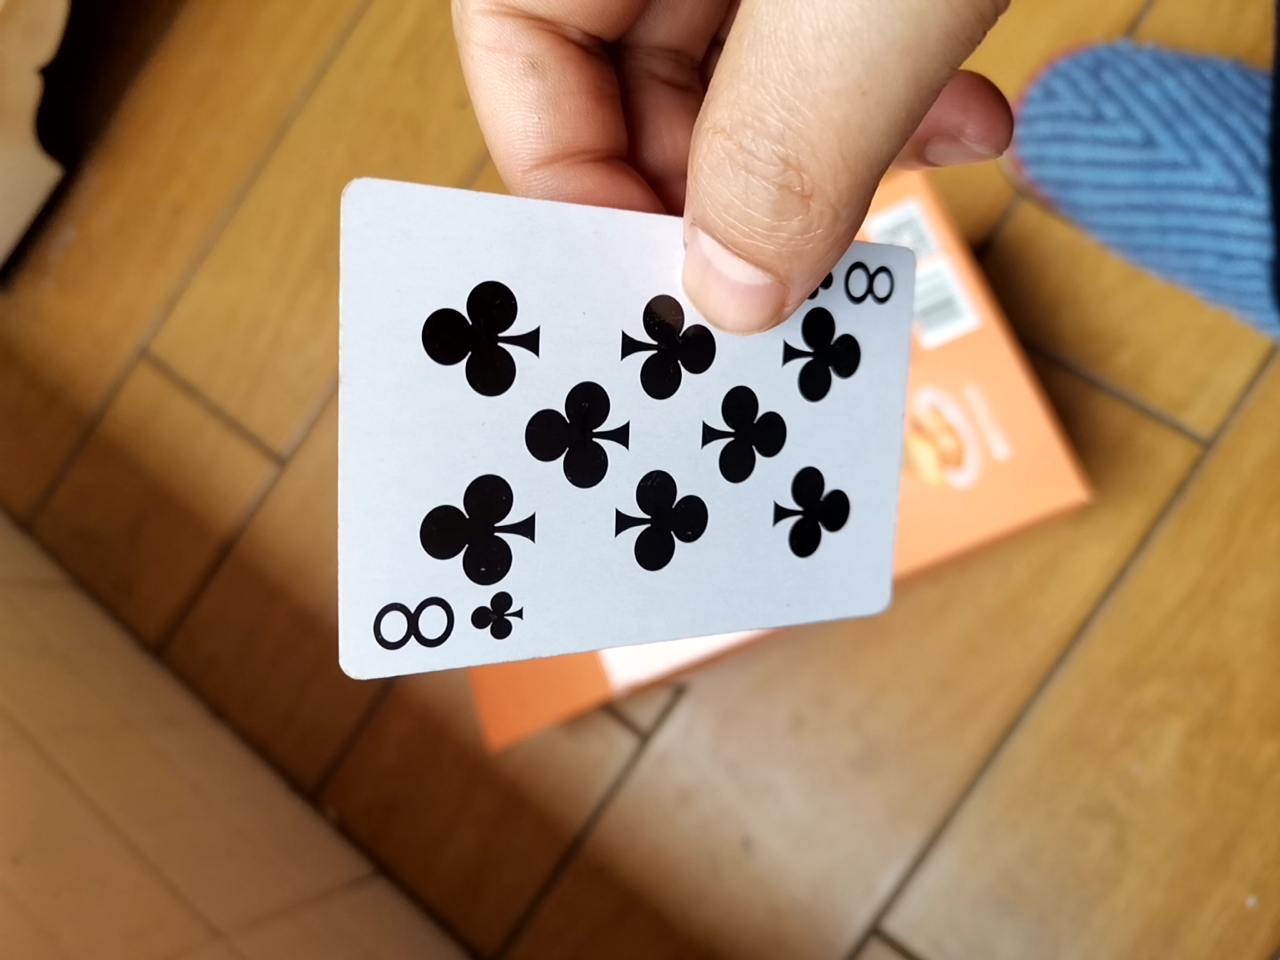mh 8: (322, 184, 958, 692)
